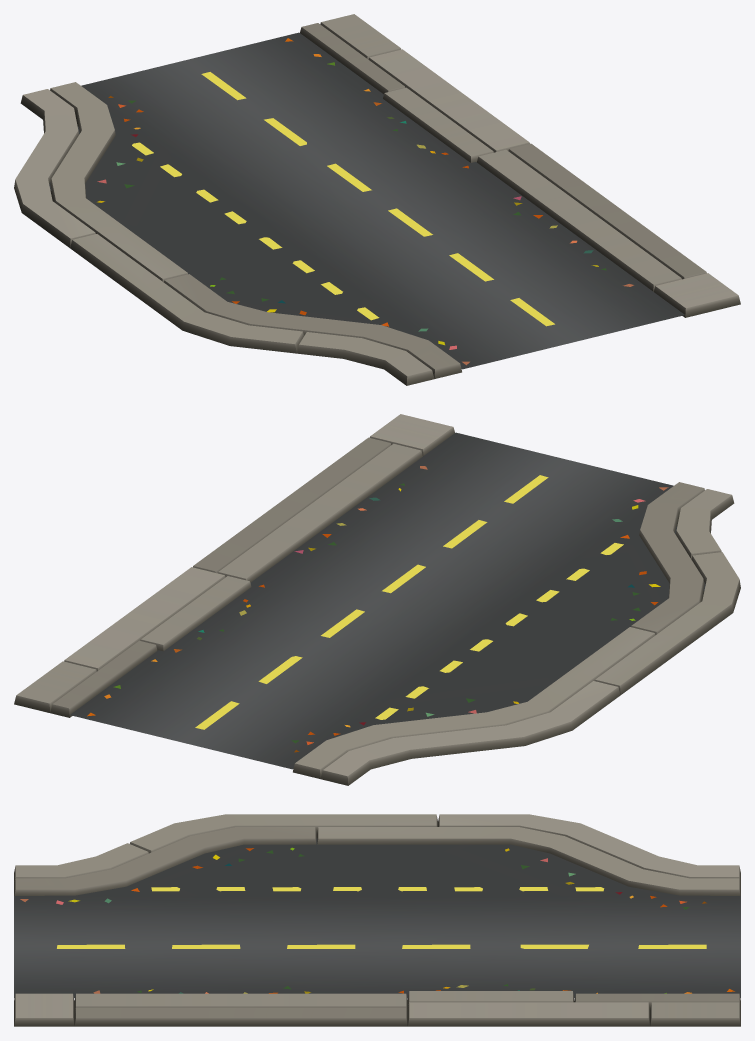
Rendered from Country_Road_1F.fbx.
3 views of the same model, one above another, from view 1: azimuth 30°, elevation 25°; view 2: azimuth 150°, elevation 25°; view 3: azimuth 270°, elevation 25° (orthographic). The views are drawn at different scales.
Parts seen in each view (by area): view 1: Country_Road_1F, Country_Road_1F_Leaves; view 2: Country_Road_1F, Country_Road_1F_Leaves; view 3: Country_Road_1F, Country_Road_1F_Leaves.
Boxes of the visible parts, box(x1,y1,x2,y2) form: Country_Road_1F: box(14, 14, 740, 385); Country_Road_1F_Leaves: box(97, 38, 633, 365); Country_Road_1F: box(14, 414, 740, 785); Country_Road_1F_Leaves: box(87, 466, 668, 752); Country_Road_1F: box(14, 814, 740, 1026); Country_Road_1F_Leaves: box(20, 847, 734, 993).
Bounding box in the file's own units: 1600 × 30 × 2400.
